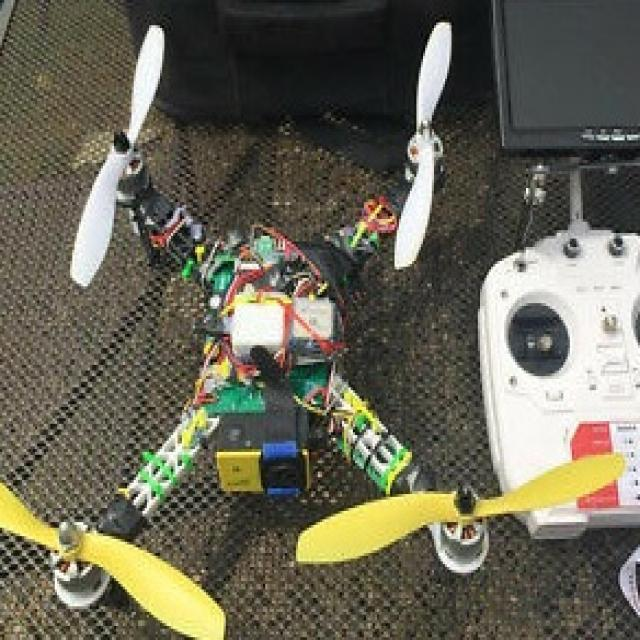drone: (0, 19, 627, 640)
